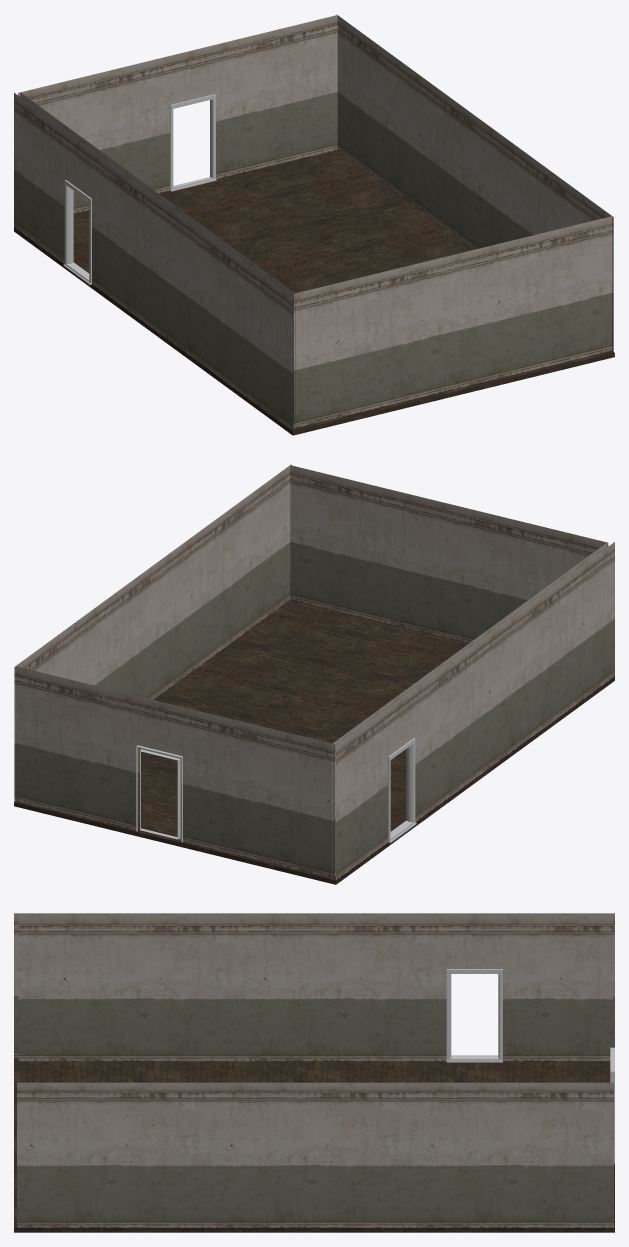
File: room_15m_x_10m_door_left.fbx
The picture shows the model from 3 angles, top to bottom: view 1: azimuth 30°, elevation 25°; view 2: azimuth 150°, elevation 25°; view 3: azimuth 270°, elevation 25°; orthographic projection. The views are drawn at different scales.
Visible parts, largest first — view 1: room_15m_x_10m_door_left; view 2: room_15m_x_10m_door_left; view 3: room_15m_x_10m_door_left.
Part boxes in pixels (x1,y1,x2,y2): room_15m_x_10m_door_left: (14,14,614,435); room_15m_x_10m_door_left: (14,464,614,884); room_15m_x_10m_door_left: (14,913,614,1232).
Size of the model in its own units: 1008 by 412 by 1500.
